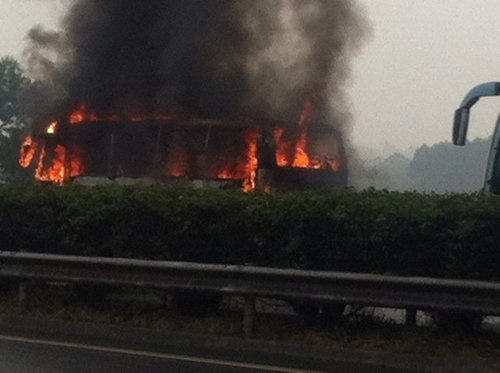fire: (219, 98, 346, 189), (19, 105, 100, 184)
